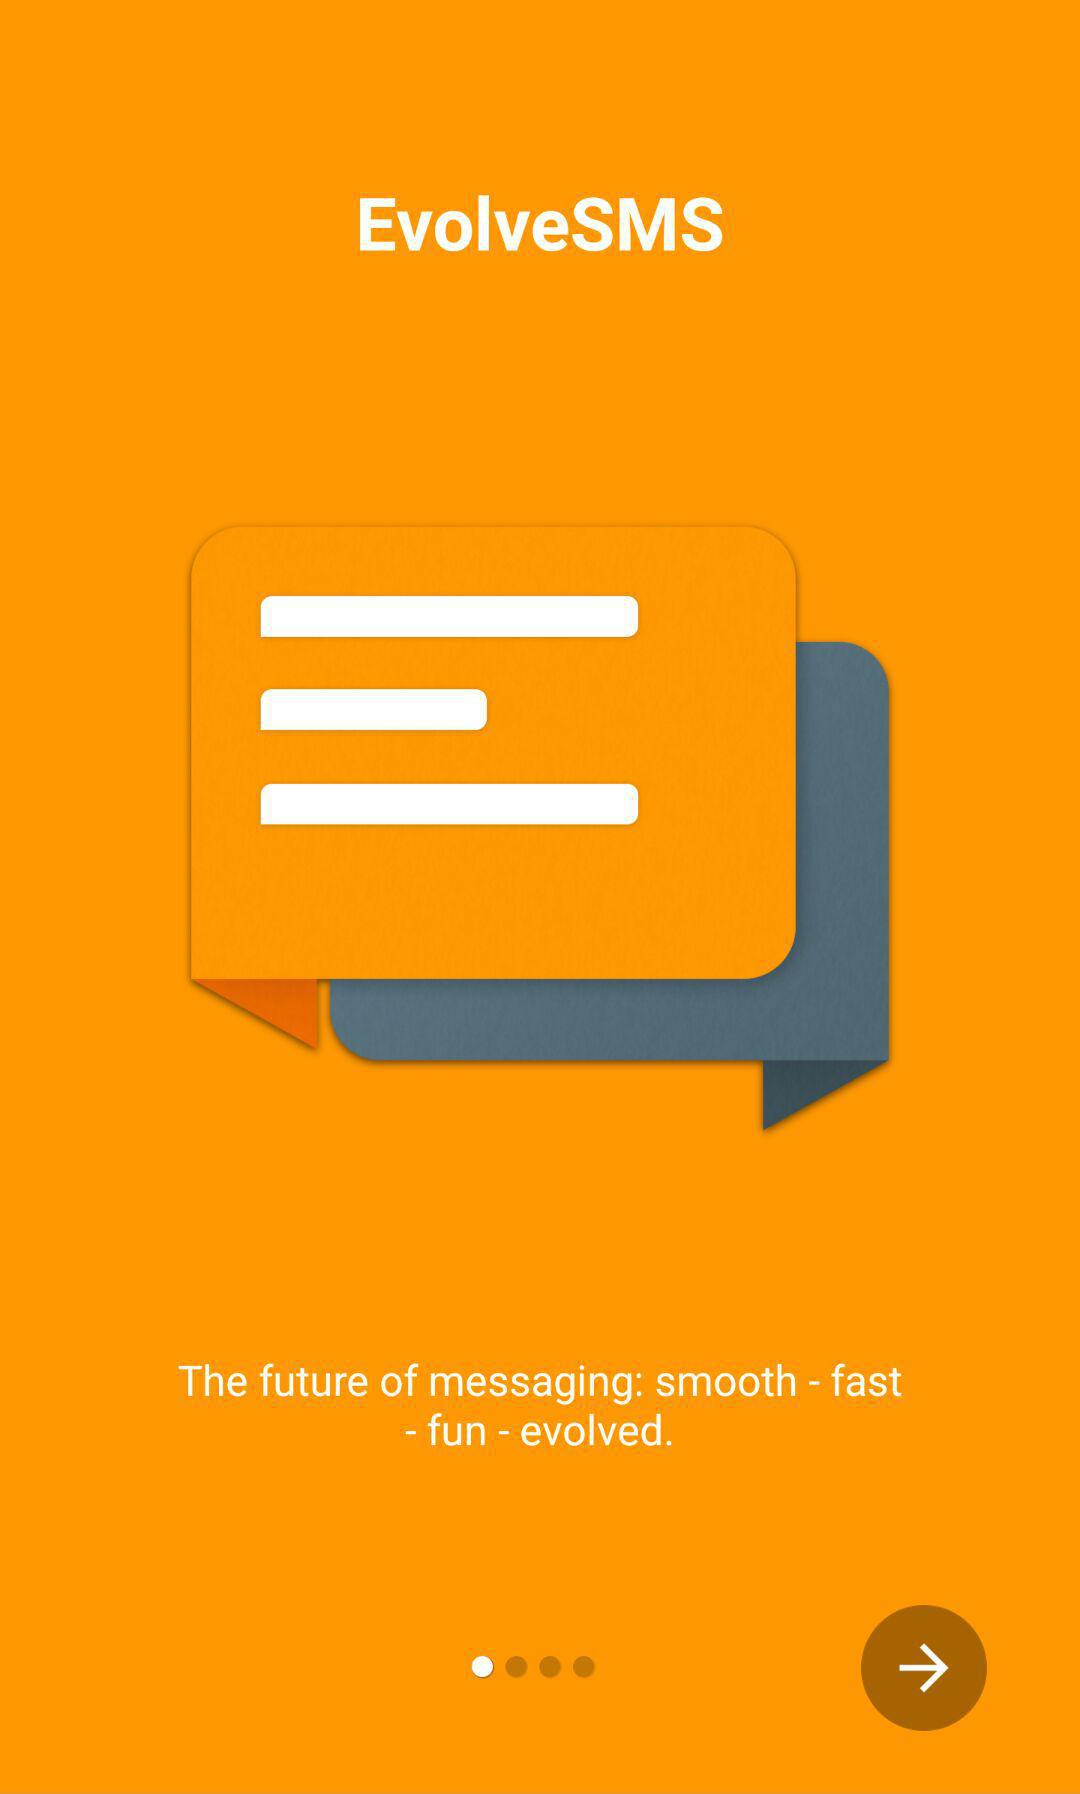Icon: (860, 1603, 989, 1732)
Image: (190, 524, 890, 1135)
PageIndicator: (470, 1654, 597, 1681)
Text: (178, 1361, 904, 1448), (359, 195, 724, 254)
